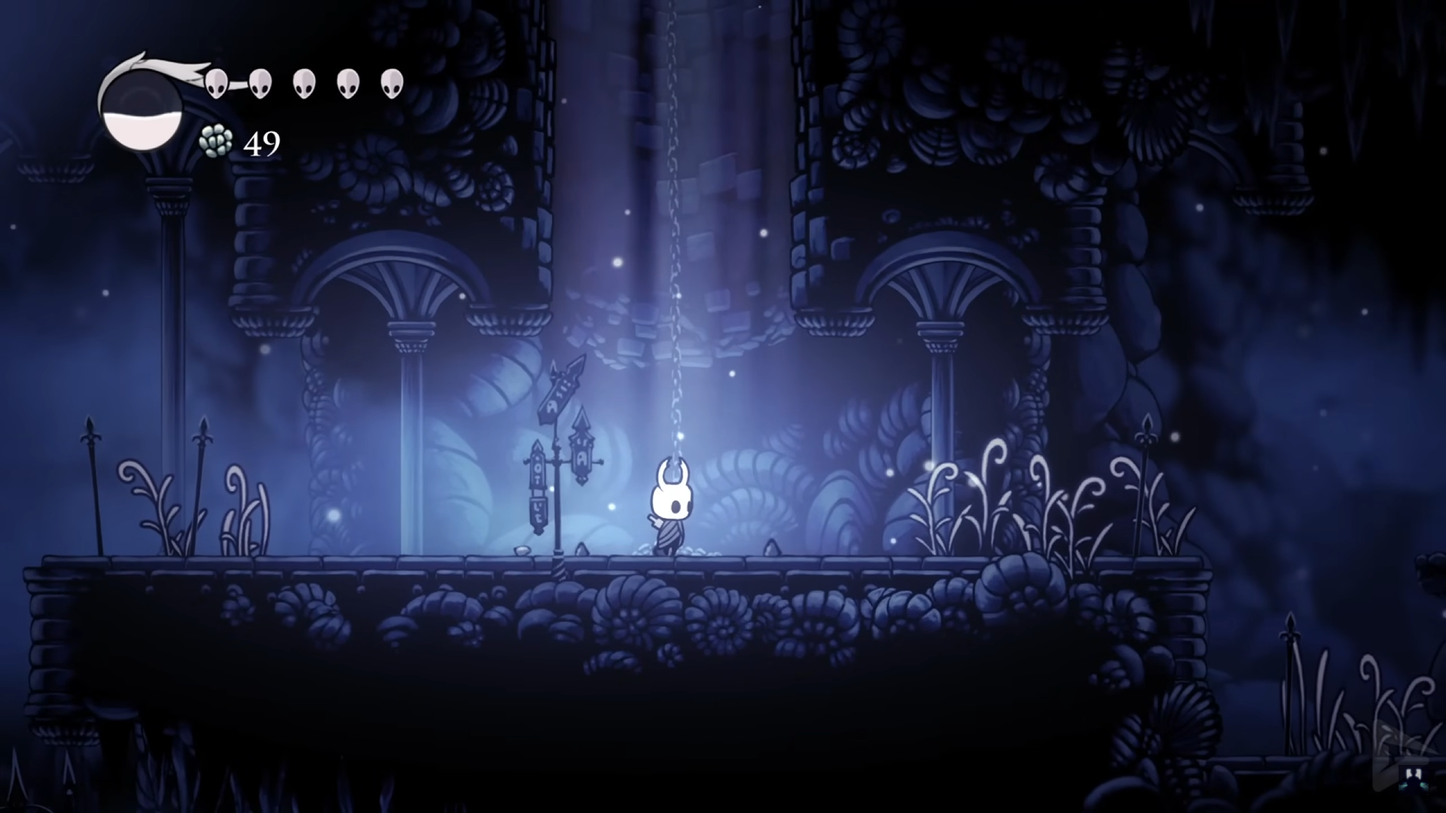HK: (643, 453, 695, 555)
